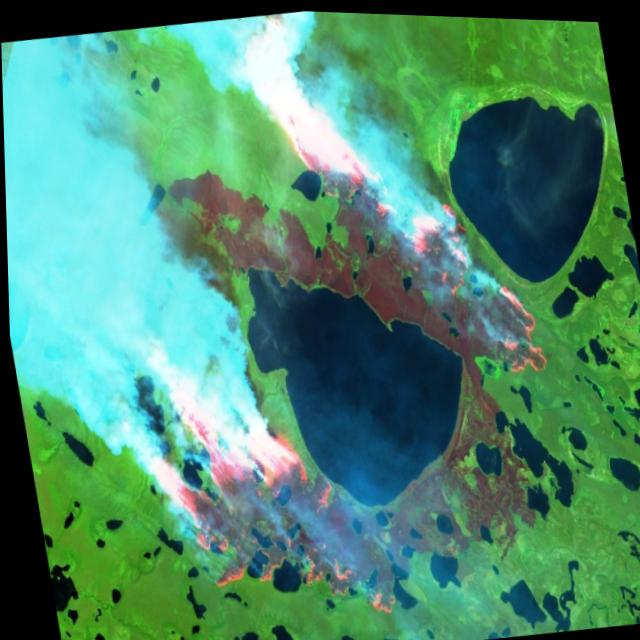fire: (51, 1, 587, 640)
